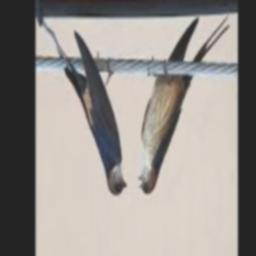Swallow: (138, 18, 231, 194), (43, 21, 127, 197)
